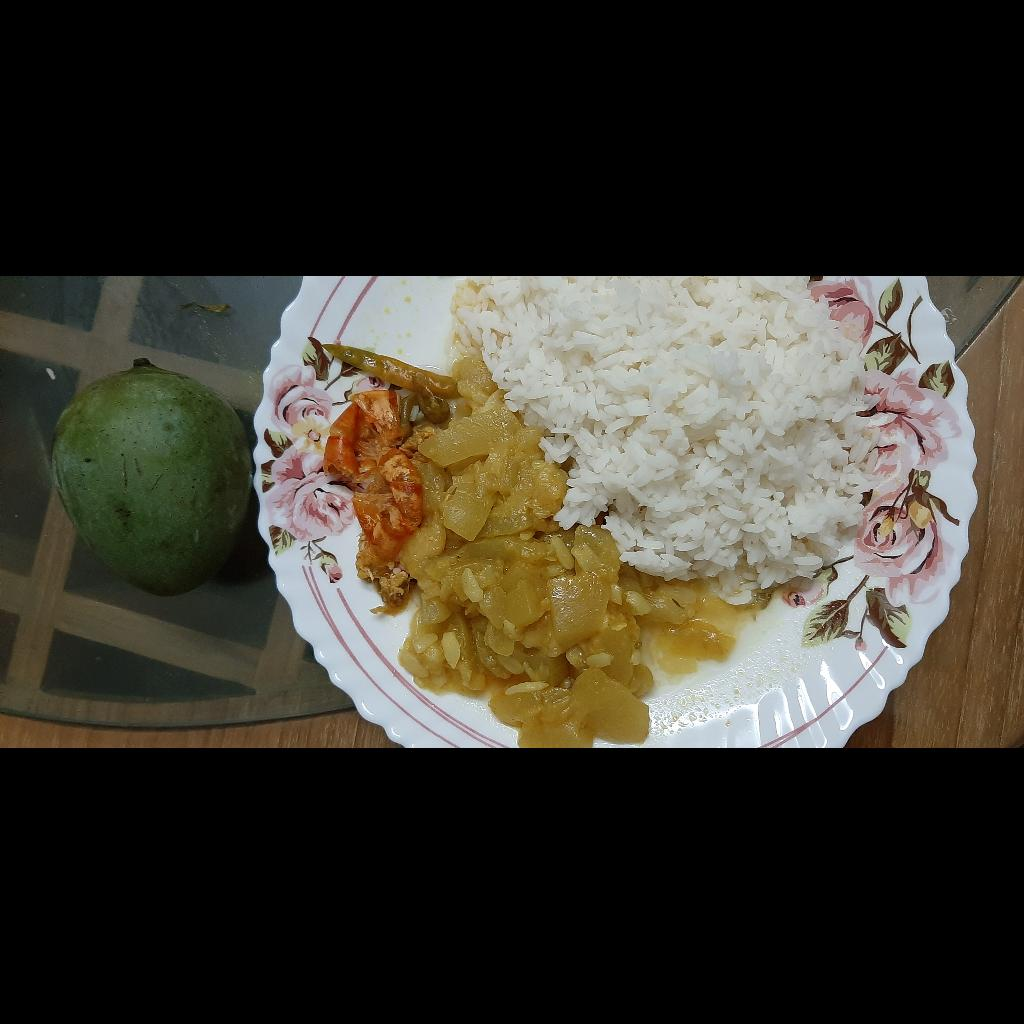lau: (1, 595, 392, 1011)
mango: (152, 329, 383, 528)
rice: (143, 727, 472, 1024)
